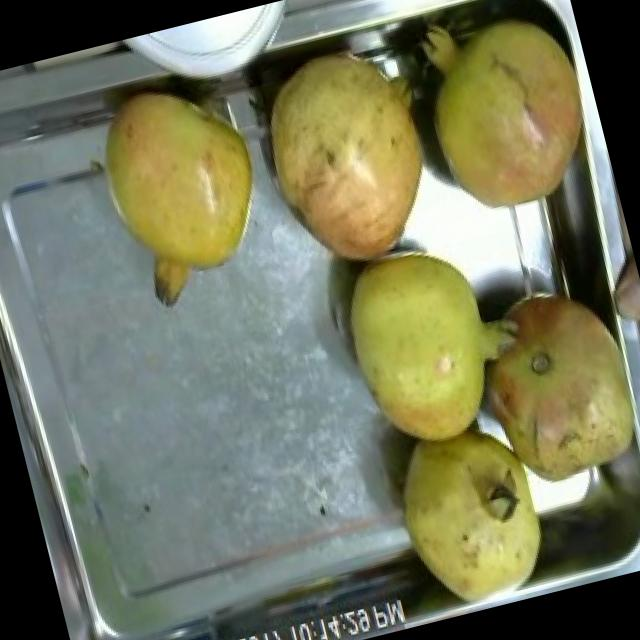fruit: (236, 17, 464, 290), (64, 56, 292, 320), (317, 220, 533, 478), (398, 0, 616, 236), (445, 255, 640, 518), (377, 404, 573, 622)
